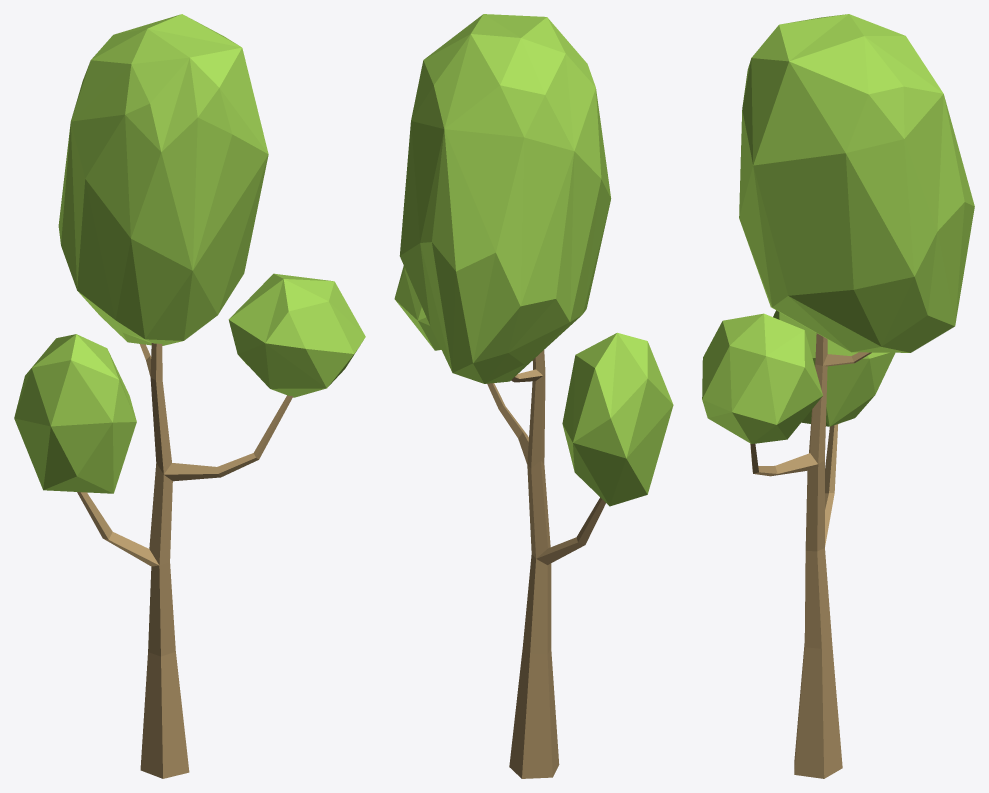
The model's file is Random_Tree_m_10.fbx.
The picture shows the model from 3 angles, left to right: view 1: azimuth 30°, elevation 25°; view 2: azimuth 150°, elevation 25°; view 3: azimuth 270°, elevation 25°; orthographic projection. The views are drawn at different scales.
Parts seen in each view (by area): view 1: Random_Tree_m_10; view 2: Random_Tree_m_10; view 3: Random_Tree_m_10.
Part boxes in pixels (box(x1,y1,x2,y2)): Random_Tree_m_10: box(14, 14, 365, 778); Random_Tree_m_10: box(394, 14, 673, 778); Random_Tree_m_10: box(702, 14, 974, 778).
Size of the model in its own units: 384 by 940 by 308.
